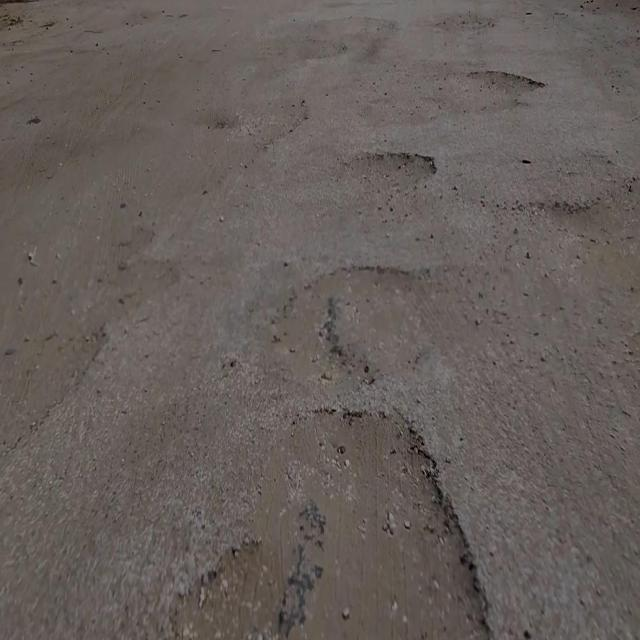Potholes: (169, 405, 492, 640), (266, 260, 441, 387), (340, 150, 438, 194), (465, 68, 546, 92)
